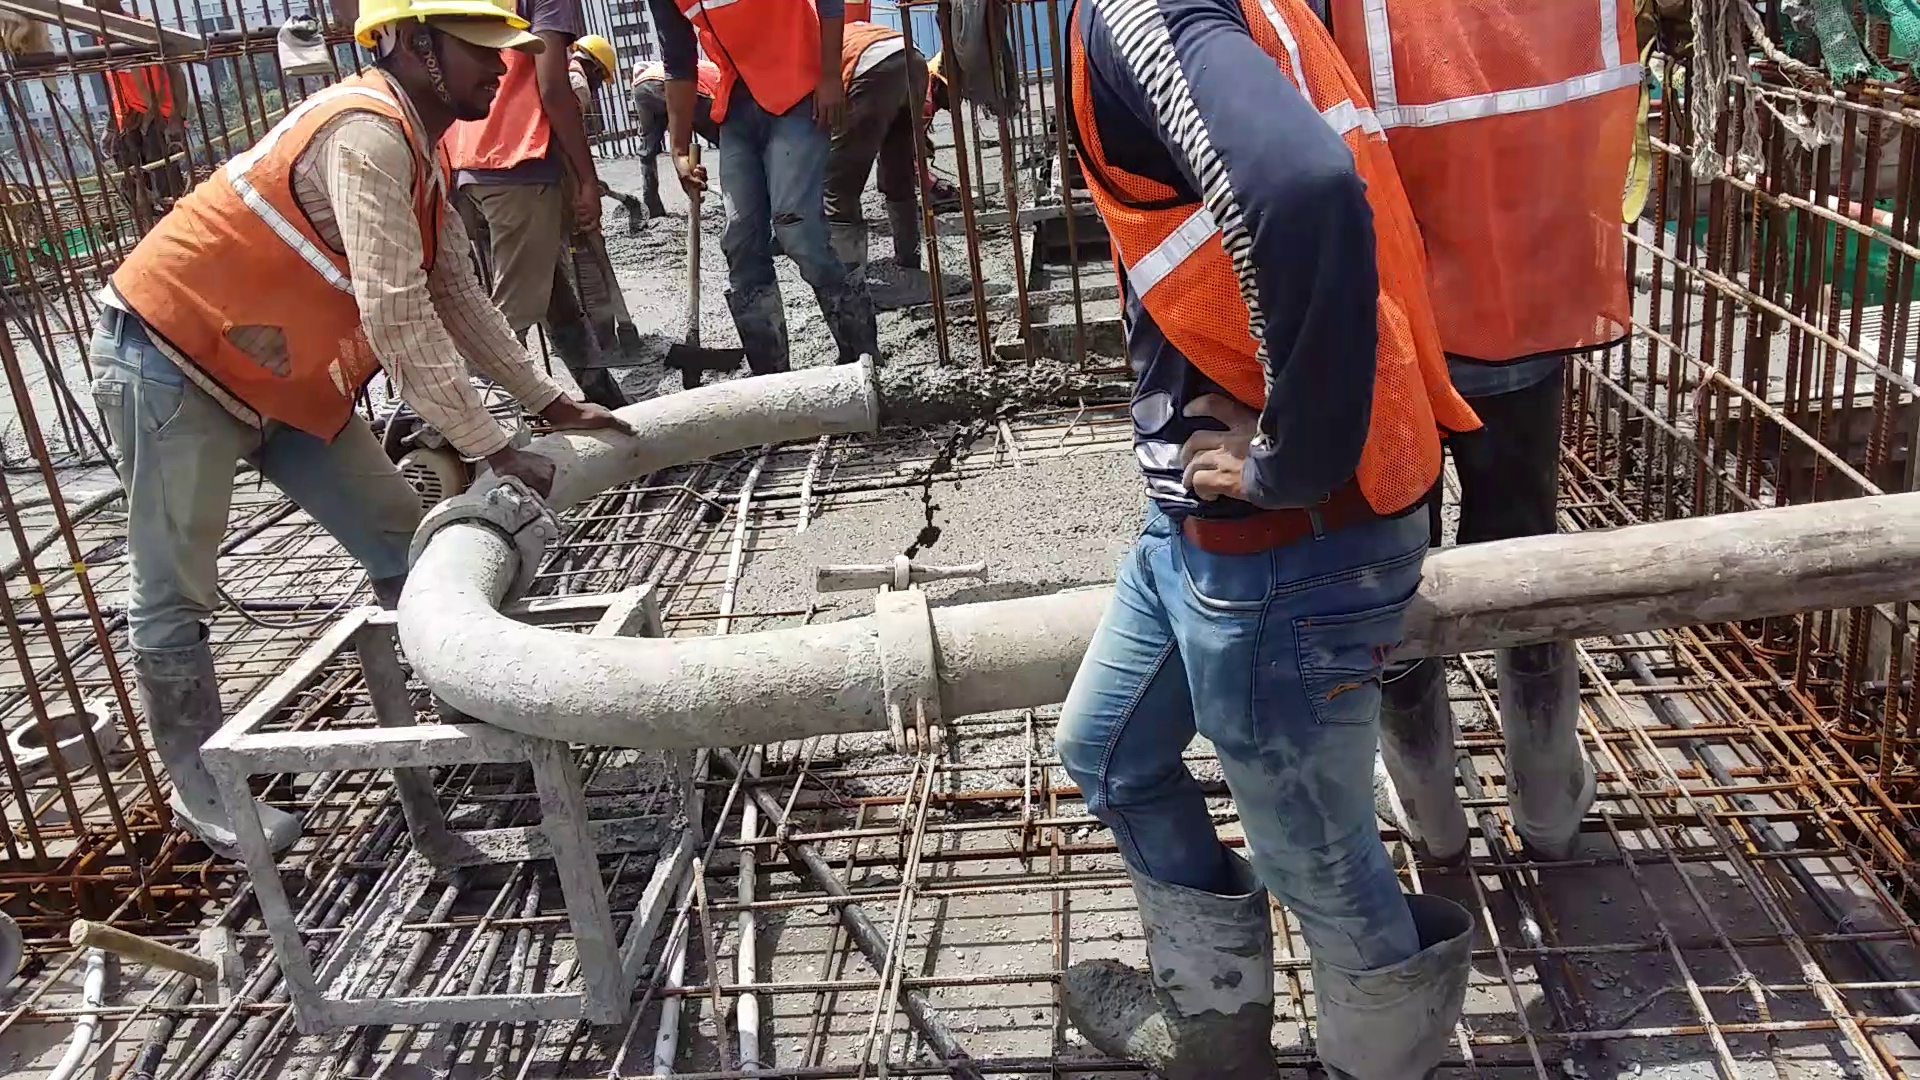SAFE: (112, 3, 516, 384)
